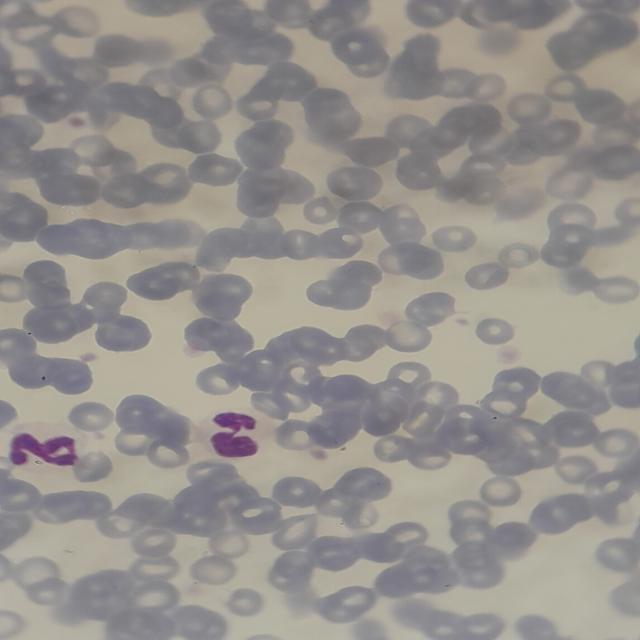Neutrofilo: (0, 426, 89, 475)
